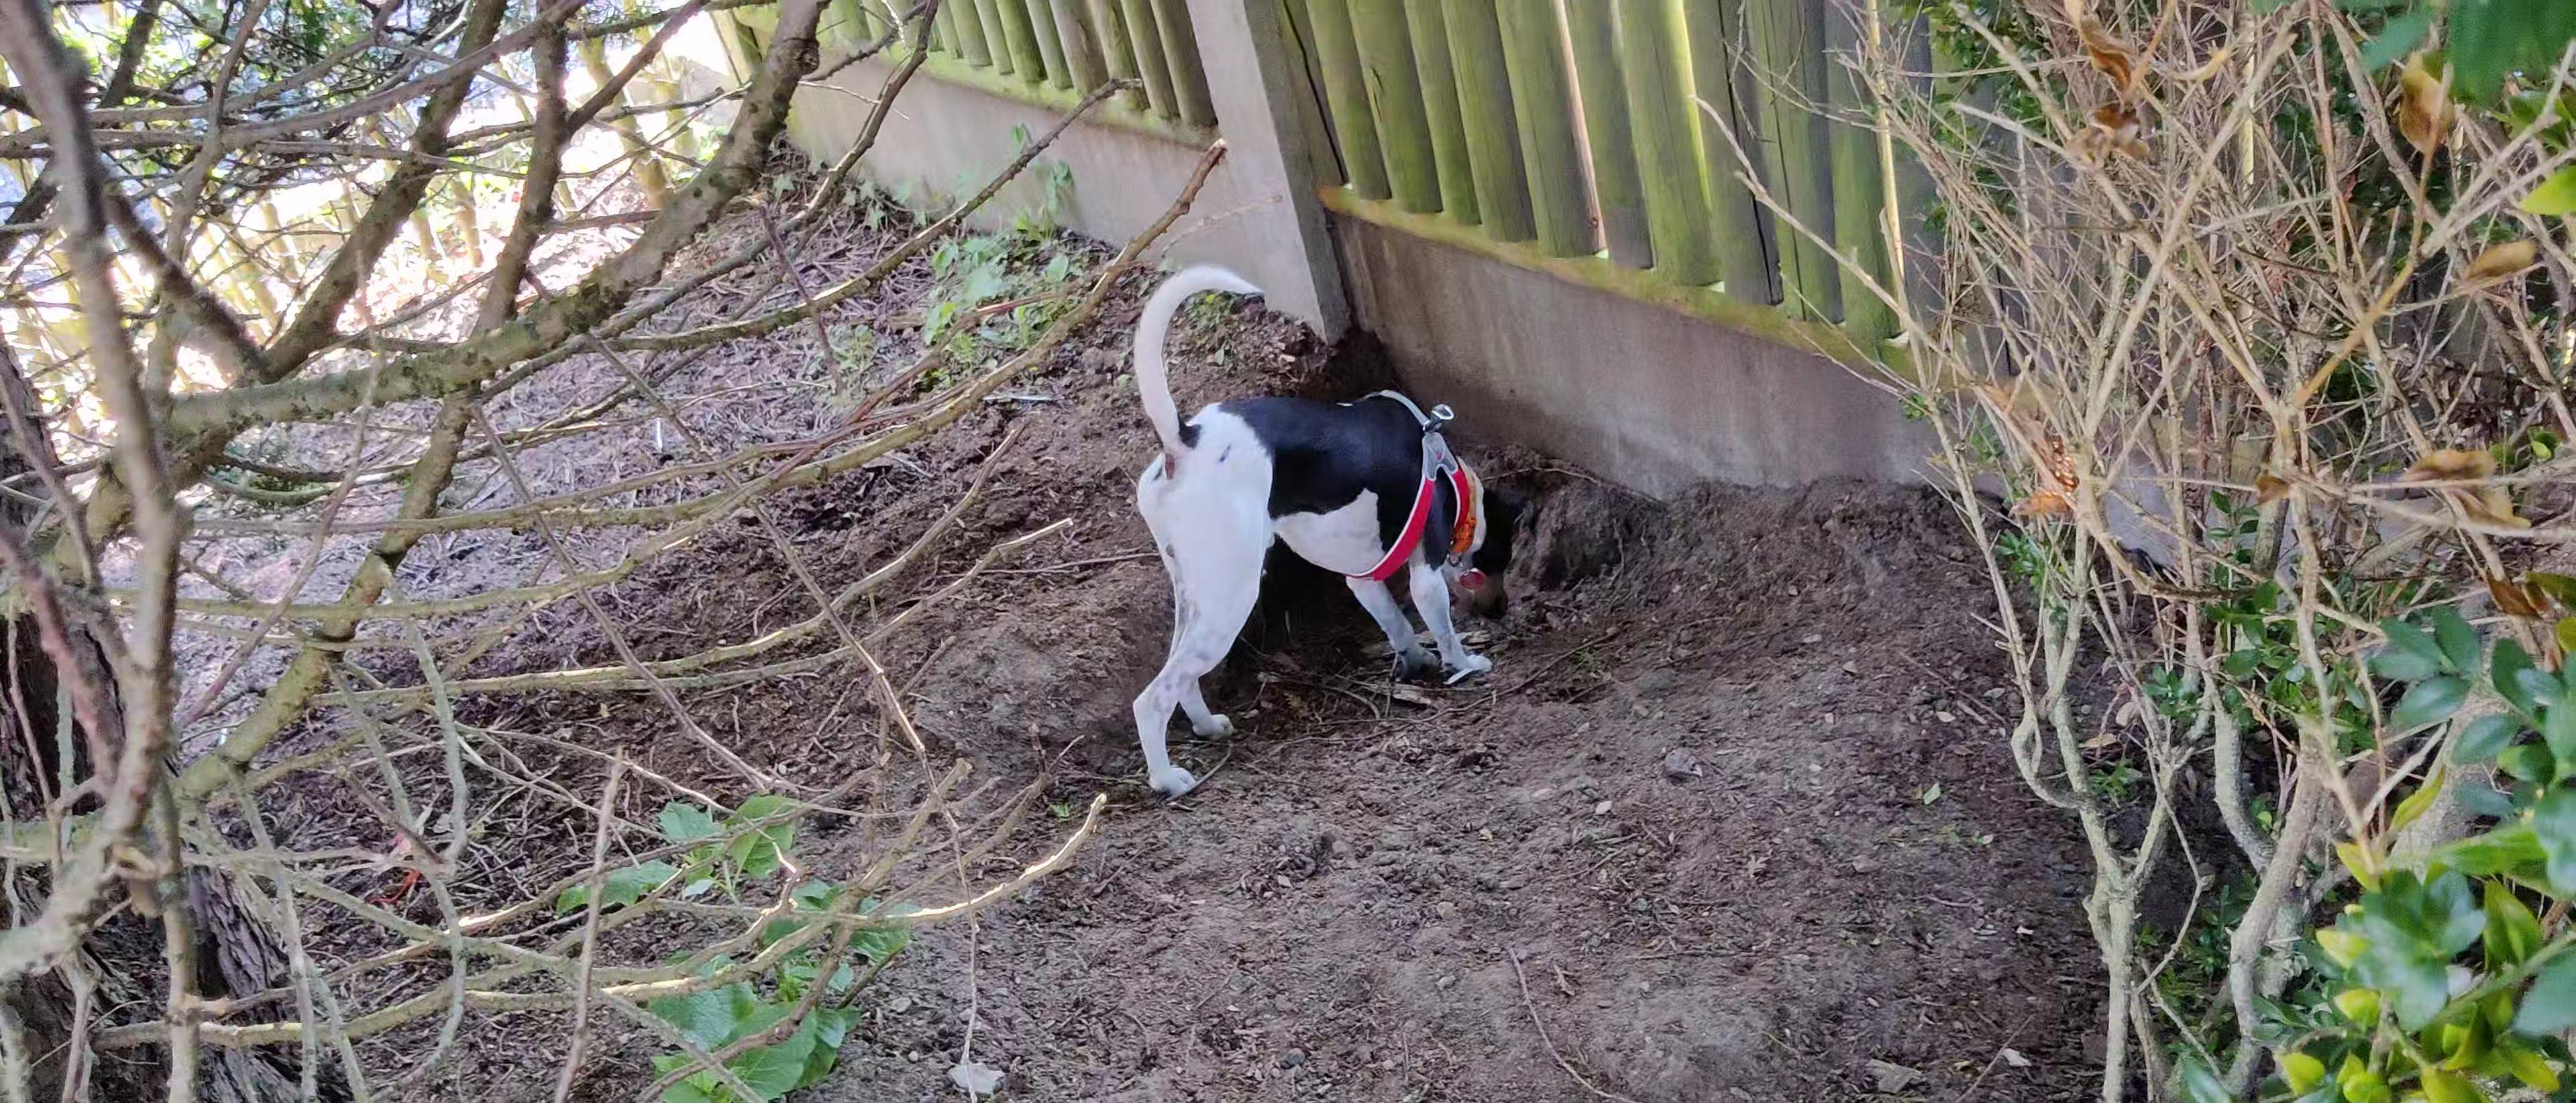Dog: (1096, 245, 1536, 815)
